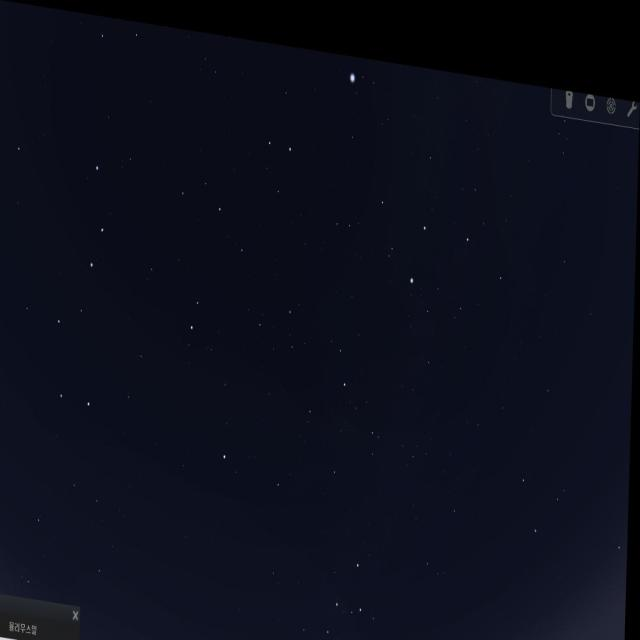cassiopeia: (288, 504, 384, 634)
cygnus: (374, 60, 480, 285)
ursa_major: (35, 139, 120, 425)
